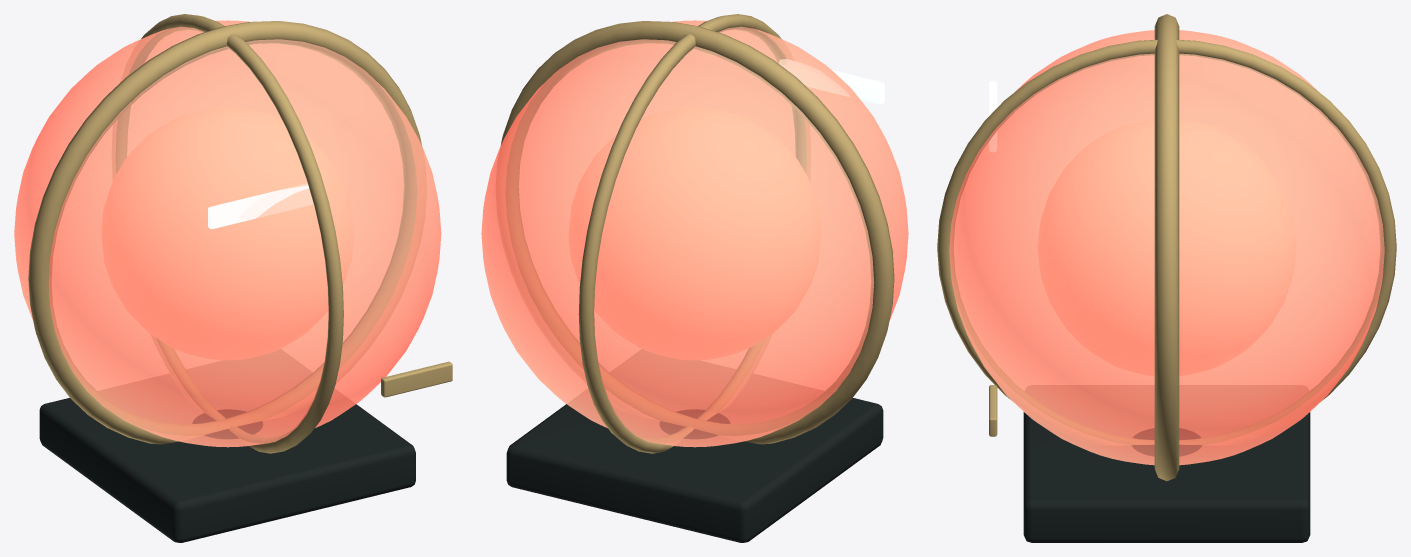
Rendered from age_museum_puzzle_orb_red.glb.
3 renders of one model, left to right at view 1: azimuth 30°, elevation 25°; view 2: azimuth 150°, elevation 25°; view 3: azimuth 270°, elevation 25°, orthographic. The views are drawn at different scales.
Visible parts, largest first — view 1: puzzle_orb_red_outer_glass, puzzle_orb_red_core, puzzle_orb_red_base_socket, puzzle_orb_red_equator_brass, puzzle_orb_red_vertical_brass, puzzle_orb_red_cyan_reflection_plate, puzzle_orb_red_small_accession_tag; view 2: puzzle_orb_red_outer_glass, puzzle_orb_red_core, puzzle_orb_red_base_socket, puzzle_orb_red_equator_brass, puzzle_orb_red_vertical_brass, puzzle_orb_red_cyan_reflection_plate; view 3: puzzle_orb_red_outer_glass, puzzle_orb_red_core, puzzle_orb_red_base_socket, puzzle_orb_red_vertical_brass, puzzle_orb_red_equator_brass.
Boxes of the visible parts, <box> form: puzzle_orb_red_outer_glass: <box>14,20,441,447</box>; puzzle_orb_red_core: <box>101,107,353,359</box>; puzzle_orb_red_base_socket: <box>39,398,415,542</box>; puzzle_orb_red_equator_brass: <box>28,21,421,444</box>; puzzle_orb_red_vertical_brass: <box>115,14,343,453</box>; puzzle_orb_red_cyan_reflection_plate: <box>208,183,312,229</box>; puzzle_orb_red_small_accession_tag: <box>381,361,452,397</box>; puzzle_orb_red_outer_glass: <box>481,20,908,447</box>; puzzle_orb_red_core: <box>568,107,821,359</box>; puzzle_orb_red_base_socket: <box>506,398,883,542</box>; puzzle_orb_red_equator_brass: <box>500,21,894,444</box>; puzzle_orb_red_vertical_brass: <box>578,14,806,453</box>; puzzle_orb_red_cyan_reflection_plate: <box>779,59,884,104</box>; puzzle_orb_red_outer_glass: <box>949,30,1384,465</box>; puzzle_orb_red_core: <box>1037,119,1296,375</box>; puzzle_orb_red_base_socket: <box>1023,412,1310,542</box>; puzzle_orb_red_vertical_brass: <box>937,39,1396,444</box>; puzzle_orb_red_equator_brass: <box>1154,14,1179,480</box>.
Bounding box in the file's own units: 0.686 × 0.728 × 0.674.
